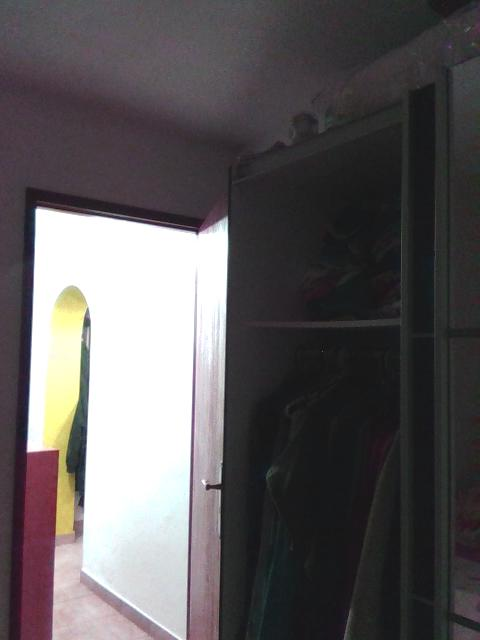open_door: (12, 182, 215, 638)
